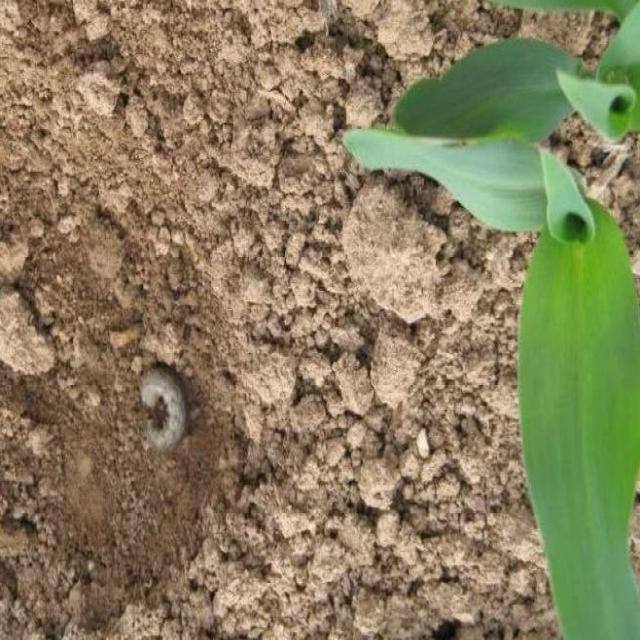black cutworm: (130, 363, 192, 455)
